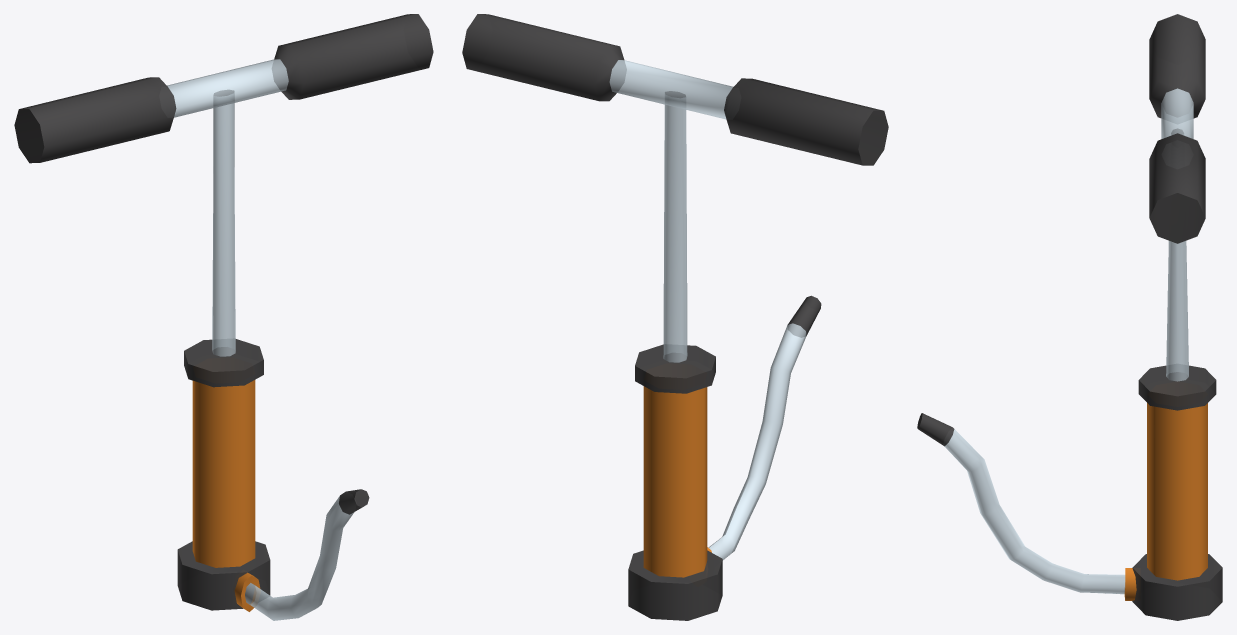
File: pump_hand.fbx
The picture shows the model from 3 angles, left to right: view 1: azimuth 30°, elevation 25°; view 2: azimuth 150°, elevation 25°; view 3: azimuth 270°, elevation 25°; orthographic projection. The views are drawn at different scales.
Parts seen in each view (by area): view 1: hand pump 1, hand pump 2; view 2: hand pump 1, hand pump 2; view 3: hand pump 2, hand pump 1.
Part boxes in pixels (box(x1,y1,x2,y2)): hand pump 1: box(14, 14, 433, 356); hand pump 2: box(177, 339, 369, 620); hand pump 1: box(462, 14, 888, 362); hand pump 2: box(628, 295, 821, 620); hand pump 2: box(917, 365, 1222, 620); hand pump 1: box(1149, 14, 1205, 381).
Size of the model in its own units: 0.8842 by 1.15 by 0.6385.
